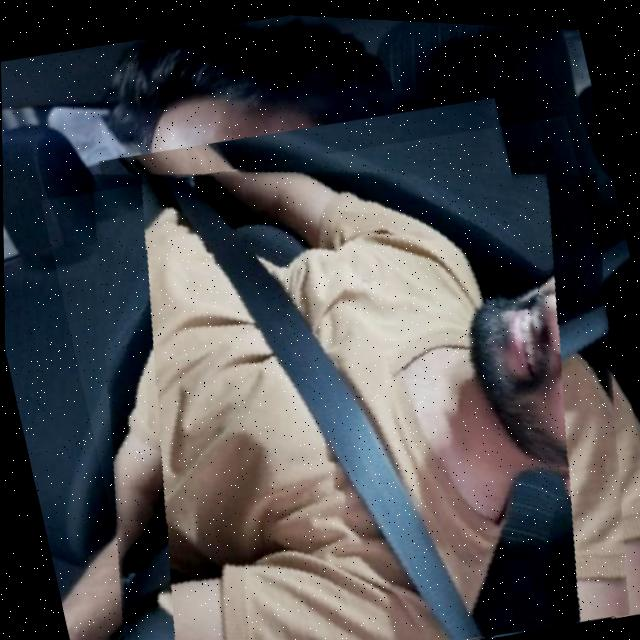seatbelt: (38, 88, 640, 640)
